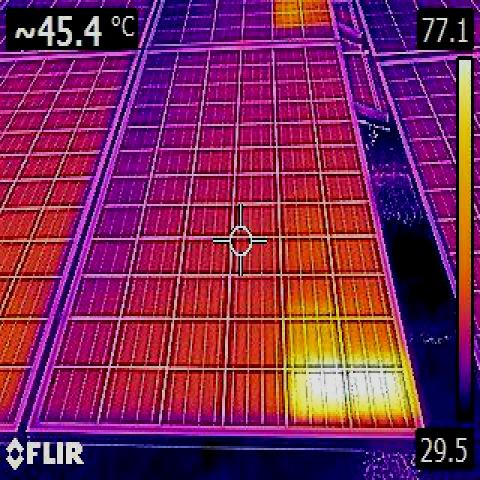fault: (291, 370, 345, 422), (350, 372, 408, 420)
